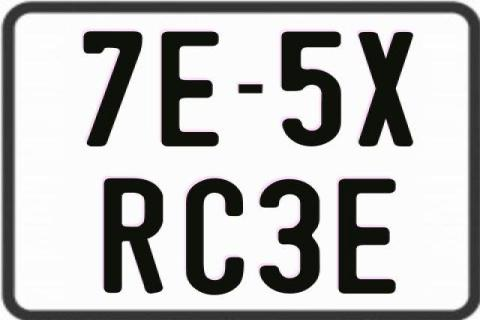0: (281, 30, 345, 148), (258, 177, 321, 295), (82, 29, 146, 144)
C: (186, 177, 248, 299)
E: (161, 31, 221, 147), (335, 178, 393, 294)
R: (102, 178, 163, 294)
X: (358, 30, 418, 148)
